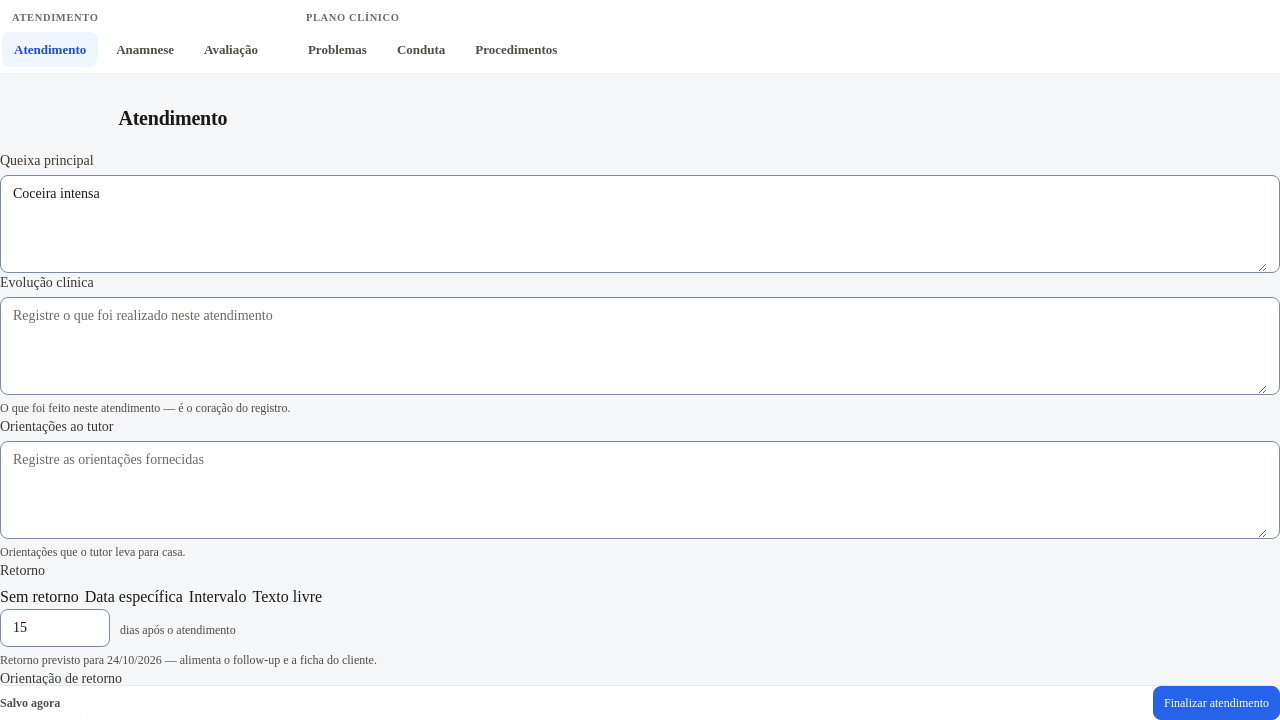
Scenario: Revisão de finalização em hierarquia › ordem: avaliação e plano → retorno e pendências → autoria → demais dados
The width and height of the screenshot is (1280, 720).
Click the button "Finalizar atendimento".
click(1216, 703)  # box [1153, 686, 1279, 719]
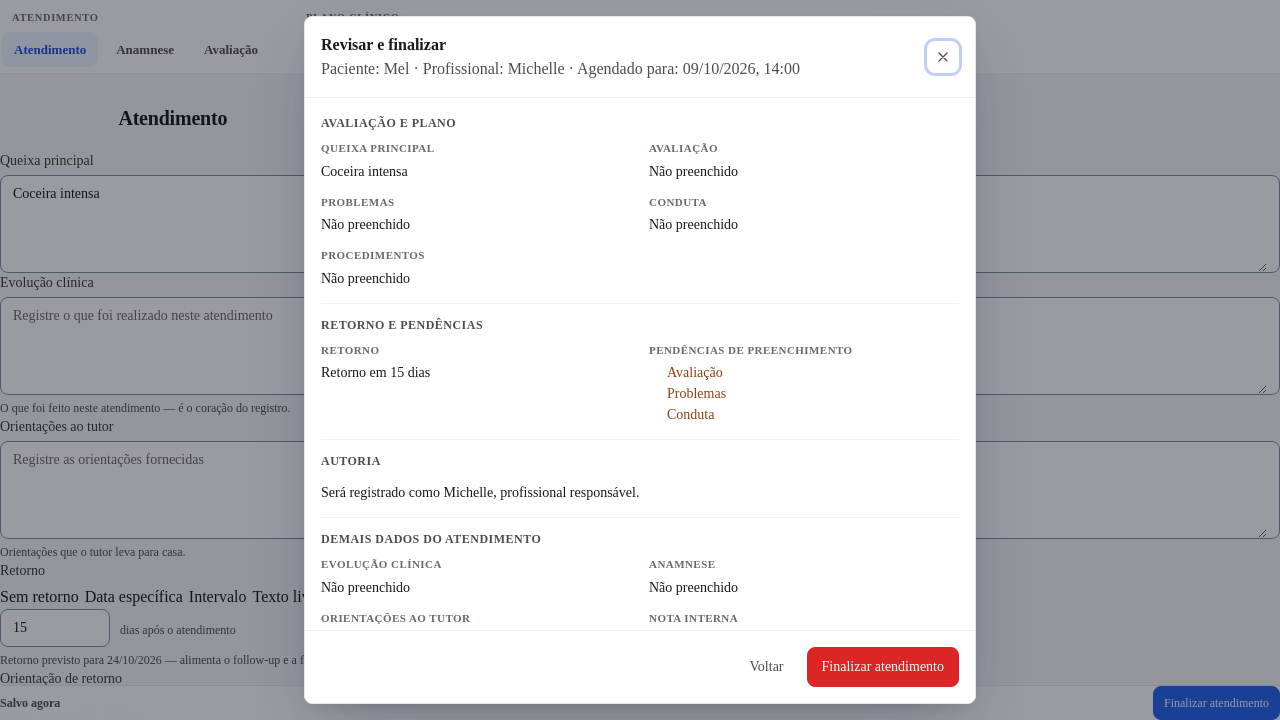
Now the element with test id "encounter-review" shows "Retorno em 15 dias", box [321, 365, 430, 380]
